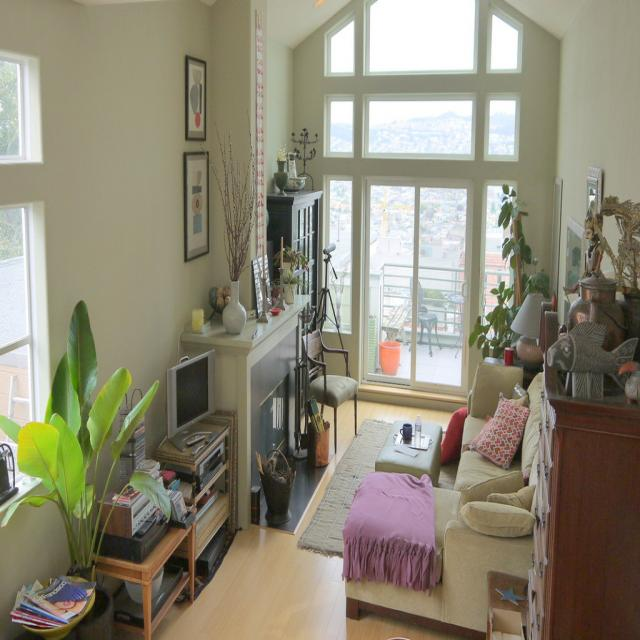chair: (301, 307, 358, 459)
desk: (82, 458, 182, 622)
tv: (166, 348, 216, 440)
